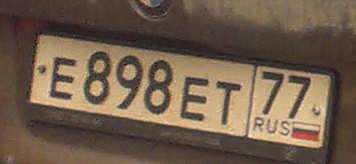character: (113, 50, 143, 113), (82, 49, 113, 109), (144, 59, 174, 118), (179, 73, 210, 123), (214, 78, 242, 130), (48, 53, 77, 102), (259, 68, 285, 116), (288, 71, 310, 122)
